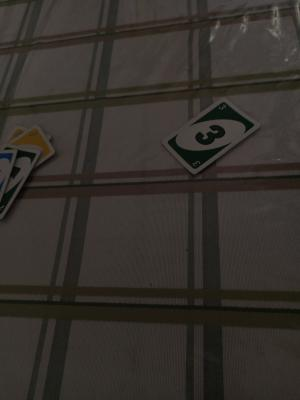green: (217, 102, 236, 120)
num_3: (192, 121, 228, 147), (188, 155, 206, 168)
